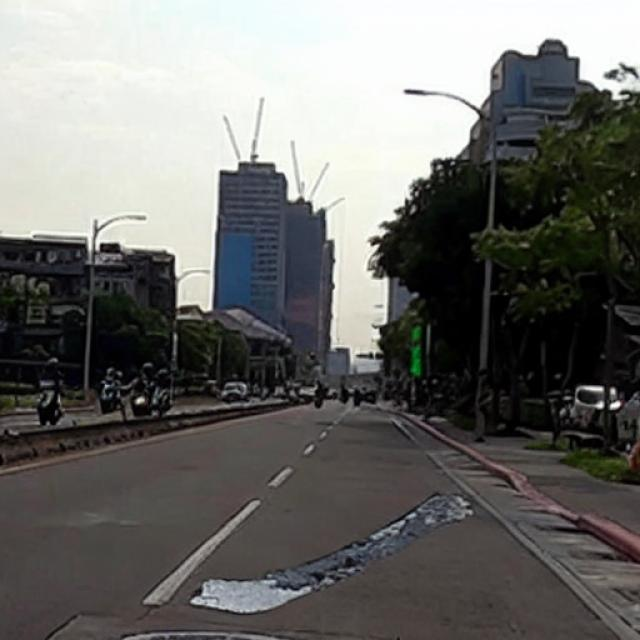puddle: (191, 493, 472, 606)
